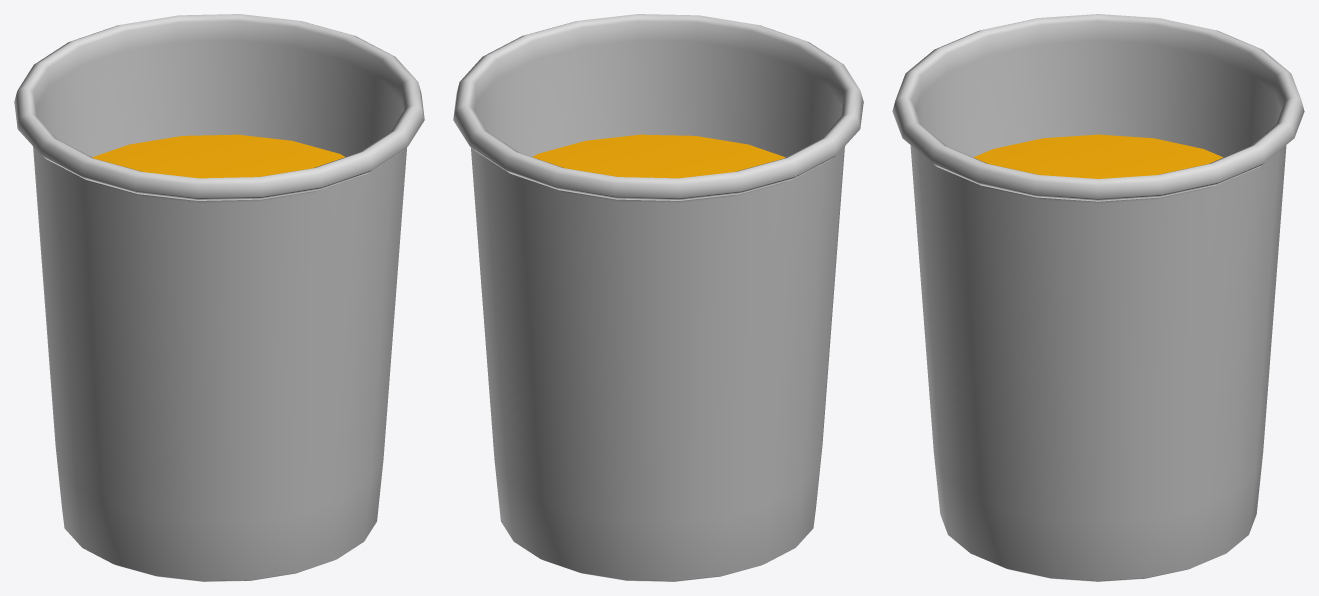
Rendered from juice-cup.fbx.
The picture shows the model from 3 angles, left to right: view 1: azimuth 30°, elevation 25°; view 2: azimuth 150°, elevation 25°; view 3: azimuth 270°, elevation 25°; orthographic projection.
Parts seen in each view (by area): view 1: revolvedSurface1; view 2: revolvedSurface1; view 3: revolvedSurface1.
Boxes of the visible parts, box(x1,y1,x2,y2) form: revolvedSurface1: box(14, 14, 424, 581); revolvedSurface1: box(453, 14, 863, 581); revolvedSurface1: box(892, 14, 1304, 581).
Size of the model in its own units: 2.18 by 2.46 by 2.18.
